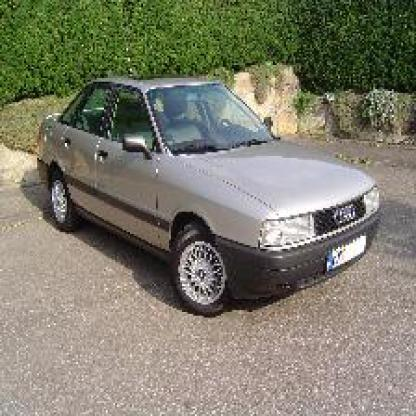not_emergency: (32, 69, 396, 325)
